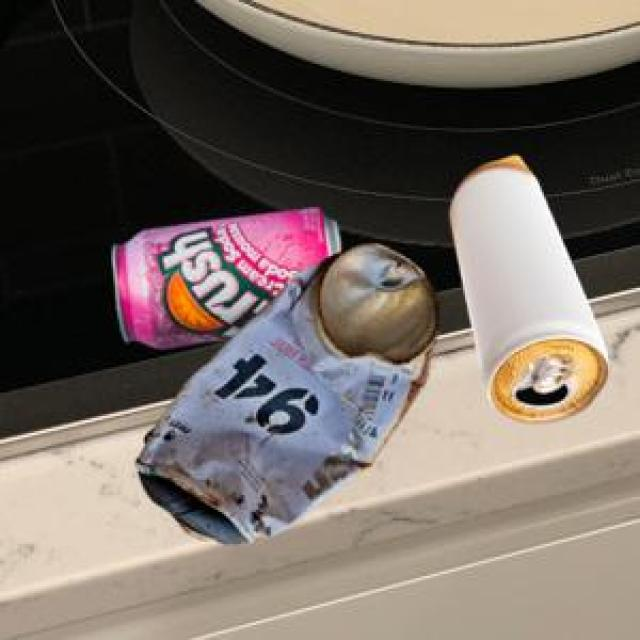logam: (133, 240, 436, 541), (447, 153, 605, 419), (110, 206, 336, 345)
